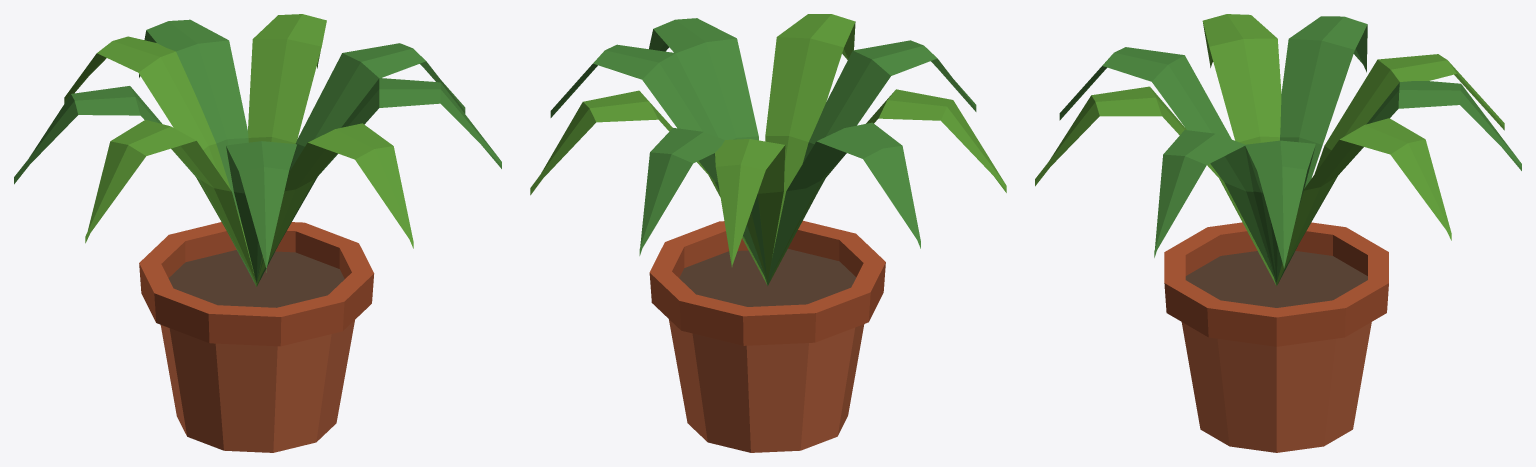
The model's file is Pot_Fern.fbx.
The picture shows the model from 3 angles, left to right: view 1: azimuth 30°, elevation 25°; view 2: azimuth 150°, elevation 25°; view 3: azimuth 270°, elevation 25°; orthographic projection.
Parts seen in each view (by area): view 1: Pot_Fern; view 2: Pot_Fern; view 3: Pot_Fern.
Part boxes in pixels (x1,y1,x2,y2): Pot_Fern: [14, 14, 501, 452]; Pot_Fern: [530, 14, 1006, 452]; Pot_Fern: [1035, 14, 1521, 452].
Bounding box in the file's own units: 0.6906 × 0.5233 × 0.6988.
